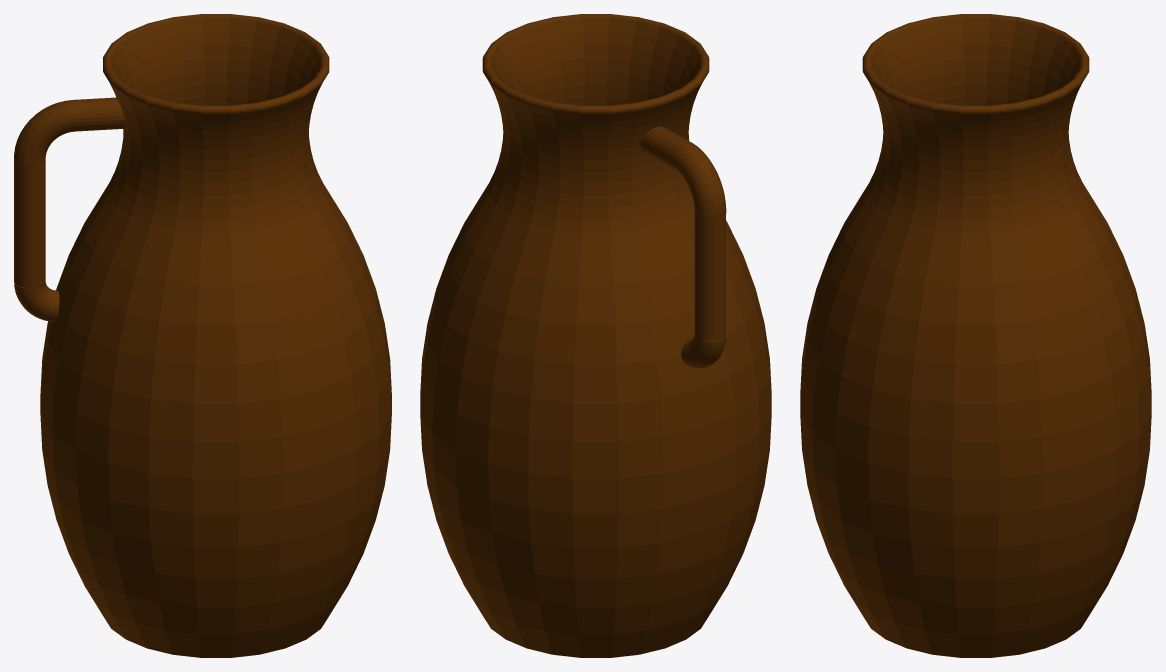
3 views of the same model, side by side, from view 1: azimuth 30°, elevation 25°; view 2: azimuth 150°, elevation 25°; view 3: azimuth 270°, elevation 25° (orthographic).
Visible parts, largest first — view 1: mesh1_mesh1-geometry; view 2: mesh1_mesh1-geometry; view 3: mesh1_mesh1-geometry.
Boxes of the visible parts, x1,y1,x2,y2 form: mesh1_mesh1-geometry: (14, 14, 391, 657); mesh1_mesh1-geometry: (420, 14, 771, 657); mesh1_mesh1-geometry: (800, 14, 1151, 657).
Size of the model in its own units: 0.4618 by 0.7676 by 0.4445.
